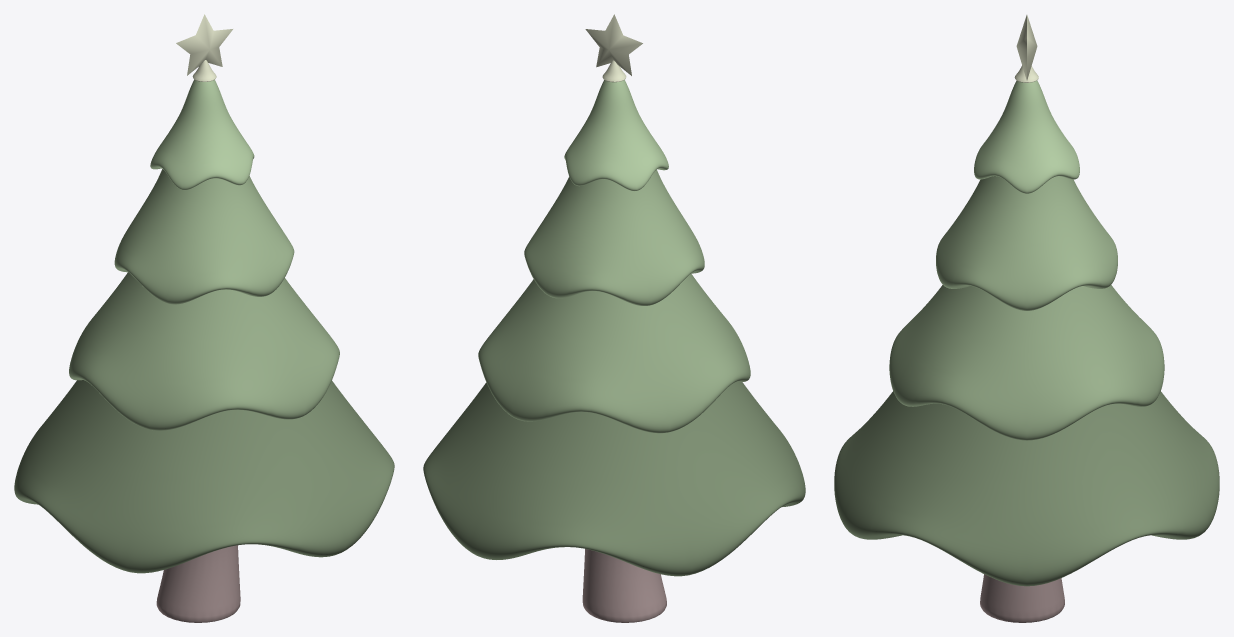
Rendered from tree_simple2.glb.
The picture shows the model from 3 angles, left to right: view 1: azimuth 30°, elevation 25°; view 2: azimuth 150°, elevation 25°; view 3: azimuth 270°, elevation 25°; orthographic projection.
Parts seen in each view (by area): view 1: Null.1, Cylinder.1, Extrude; view 2: Null.1, Cylinder.1, Extrude; view 3: Null.1, Cylinder.1, Extrude.
Boxes of the visible parts, left/top/right/bottom form: Null.1: left=14, top=79, right=394, bottom=573; Cylinder.1: left=156, top=545, right=240, bottom=622; Extrude: left=176, top=14, right=232, bottom=75; Null.1: left=423, top=80, right=805, bottom=576; Cylinder.1: left=582, top=549, right=666, bottom=622; Extrude: left=585, top=14, right=642, bottom=75; Null.1: left=834, top=80, right=1219, bottom=586; Cylinder.1: left=980, top=574, right=1064, bottom=622; Extrude: left=1016, top=15, right=1037, bottom=80.
Bounding box in the file's own units: 5.4 × 9.24 × 5.41.
